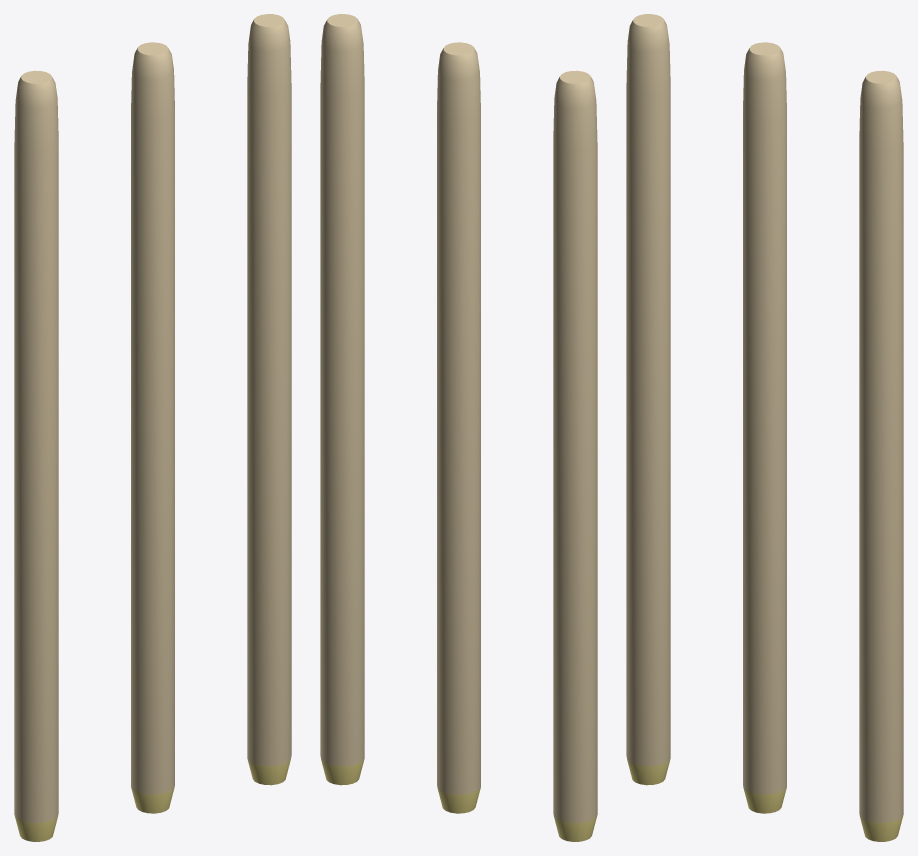
Rendered from SM_C26_Wicket_Stumps.fbx.
3 renders of one model, left to right at view 1: azimuth 30°, elevation 25°; view 2: azimuth 150°, elevation 25°; view 3: azimuth 330°, elevation 25°, orthographic.
Parts seen in each view (by area): view 1: SM_C26_Wicket_Stumps; view 2: SM_C26_Wicket_Stumps; view 3: SM_C26_Wicket_Stumps.
Part boxes in pixels (left/top/right/bottom): SM_C26_Wicket_Stumps: left=14, top=14, right=291, bottom=841; SM_C26_Wicket_Stumps: left=320, top=14, right=597, bottom=841; SM_C26_Wicket_Stumps: left=626, top=14, right=903, bottom=841.
Size of the model in its own units: 26.66 by 3.8 by 71.1.
